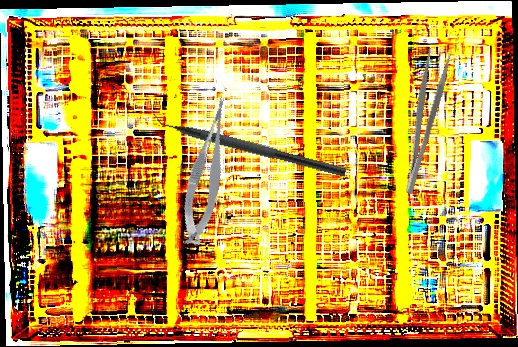Chopper: (145, 104, 350, 178)
Dressing Forceps: (390, 47, 454, 196)
Micro Scissor: (169, 92, 248, 250)
